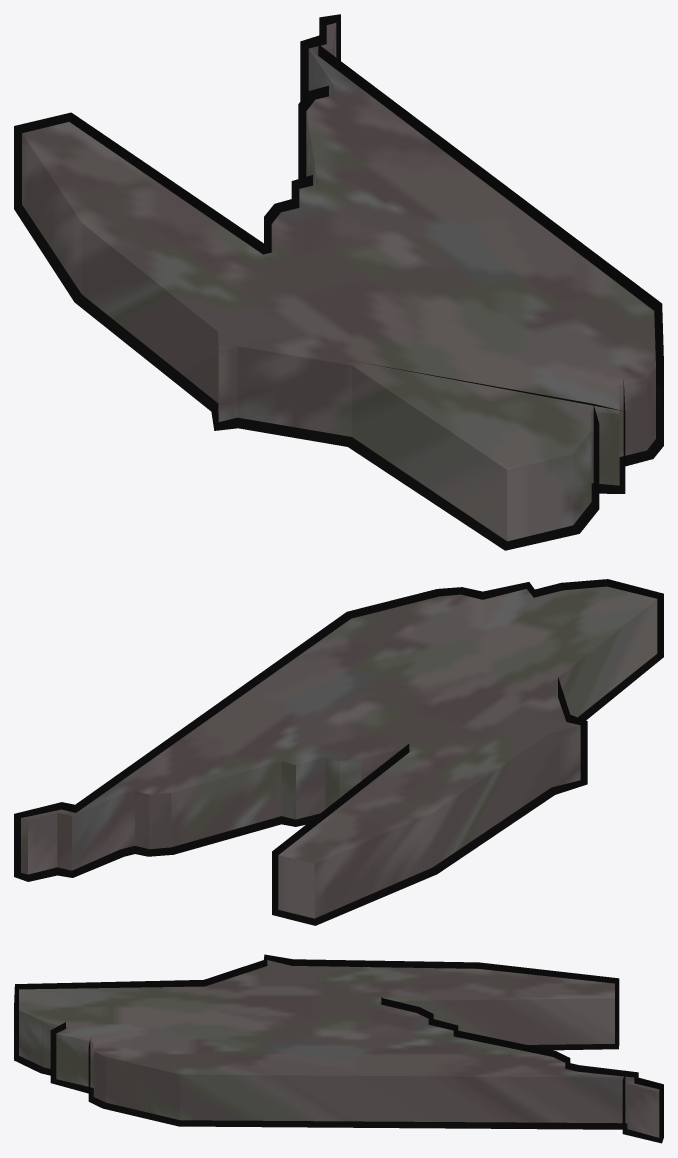
The model's file is Building_FloorEtchingRambling_Things_Filth_FloorEtchings_FloorEtchingI.glb.
3 views of the same model, one above another, from view 1: azimuth 30°, elevation 25°; view 2: azimuth 150°, elevation 25°; view 3: azimuth 270°, elevation 25° (orthographic). The views are drawn at different scales.
Visible parts, largest first — view 1: Body, Outline; view 2: Body, Outline; view 3: Body, Outline.
Part boxes in pixels (left/top/right/bottom): Body: left=22, top=23, right=655, bottom=541; Outline: left=14, top=14, right=663, bottom=550; Body: left=21, top=586, right=657, bottom=918; Outline: left=14, top=579, right=663, bottom=925; Body: left=19, top=960, right=659, bottom=1137; Outline: left=14, top=954, right=663, bottom=1143.
Size of the model in its own units: 0.7258 by 0.1422 by 1.46.
Materials: 2 (1 with a texture image).
